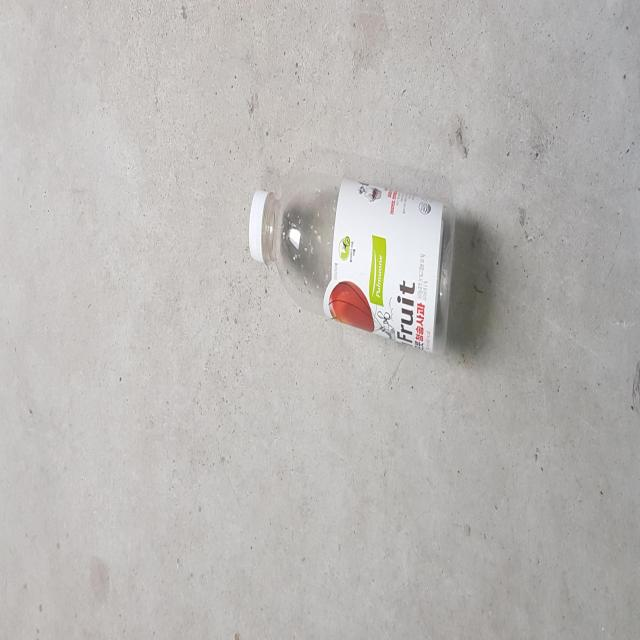plastic: (249, 171, 455, 351)
